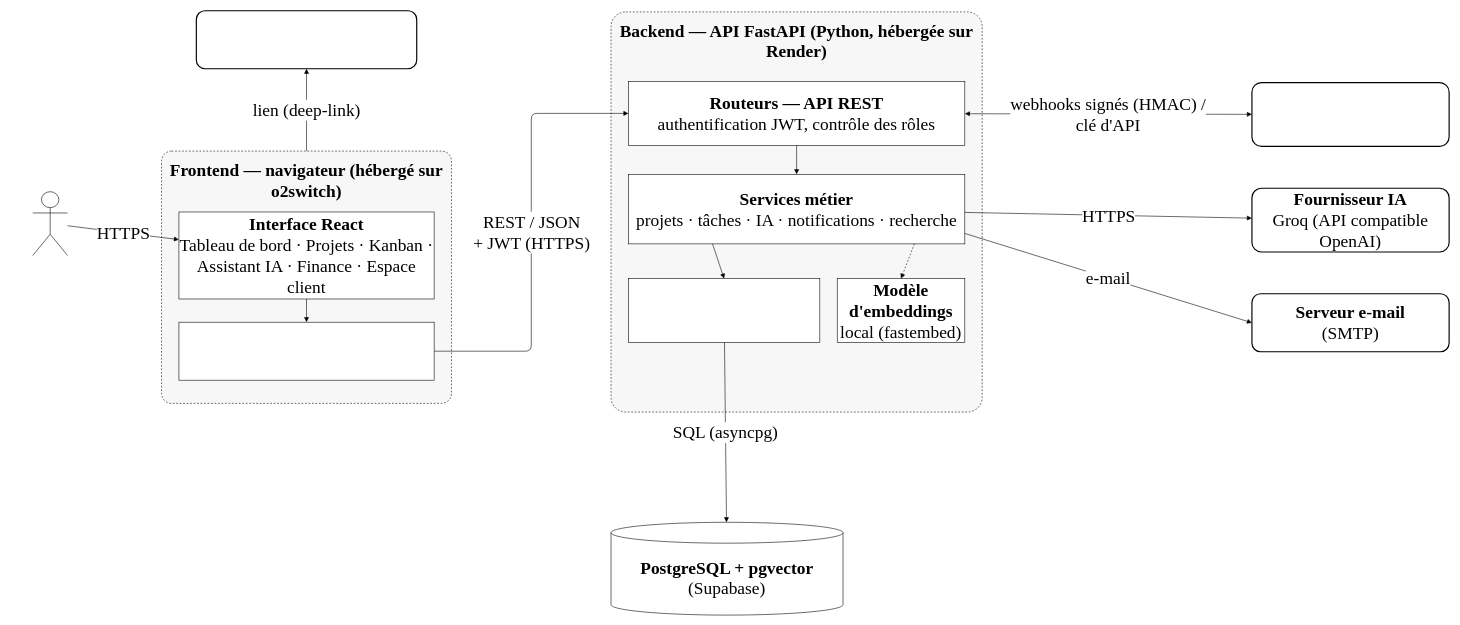
Some shapes in this 1460 by 625 pixel diagram are drawn without their labels. The shapes that lost their labels are listed below. From the top down, each one's box as (x1, y1, x2, y2) in pixels, then its label:
(195, 10, 417, 69): i-Resaka messagerie (chat du projet)
(1251, 82, 1449, 147): B-esti devis et comptes clients
(32, 191, 68, 255): Utilisateurs (Direction, Chef de projet, Membre, Client)
(628, 278, 820, 342): Modèles ORM SQLAlchemy
(178, 322, 434, 380): Accès à l'API Axios + jeton JWT
